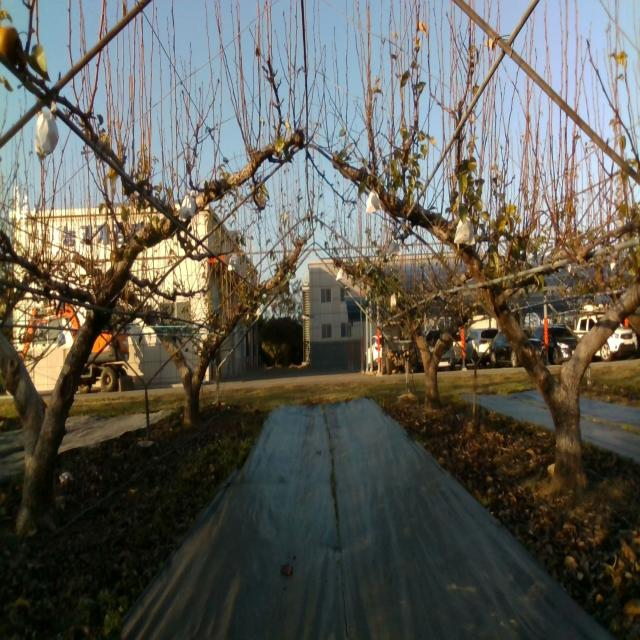pearbags: (35, 100, 60, 163), (454, 216, 476, 247), (178, 190, 196, 222), (366, 190, 382, 214), (386, 239, 403, 258)
